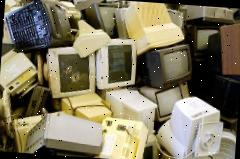electronic: (38, 31, 103, 104), (92, 27, 146, 110), (140, 41, 206, 90), (135, 80, 198, 127)
